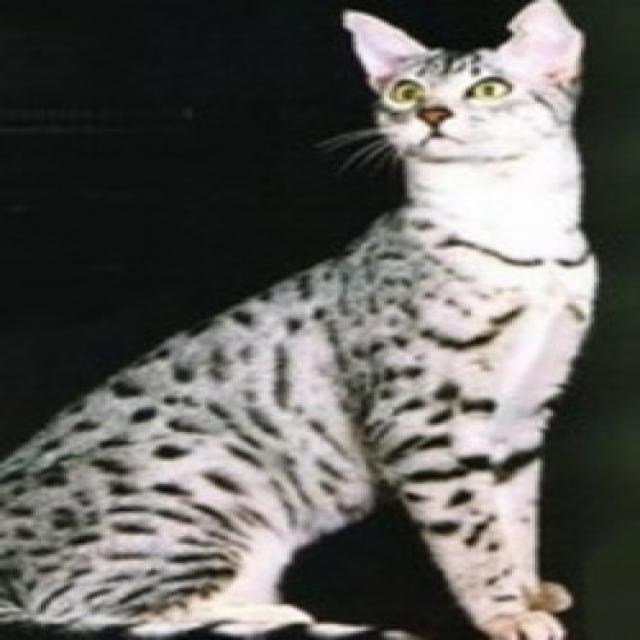Egyptian_Mau: (338, 0, 581, 161)
